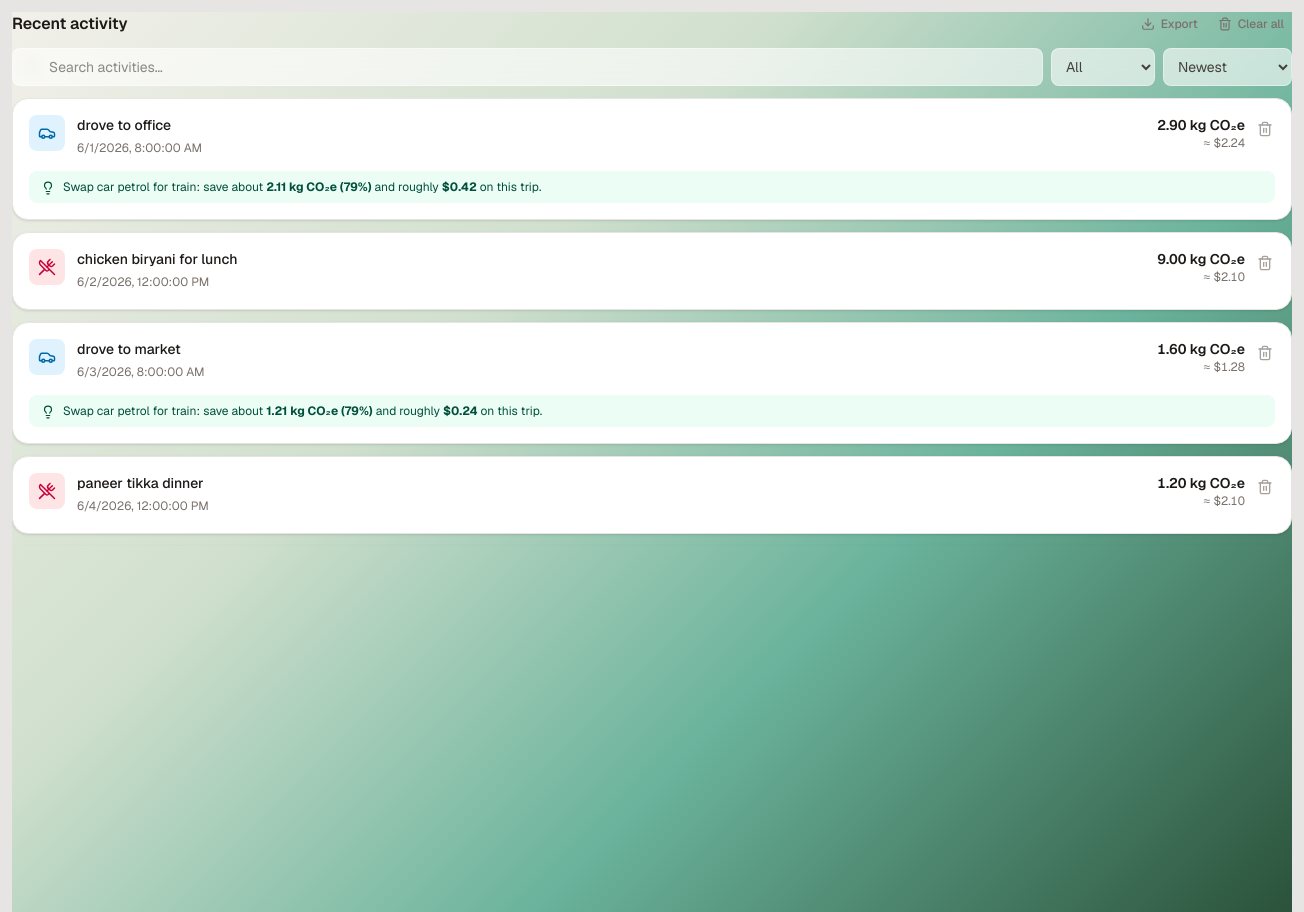
Scenario: RecentActivity › filters by search text
In the field with placeholder "Search activities…": x=528, y=67 left=12, top=48, right=1043, bottom=86, type "biryani"
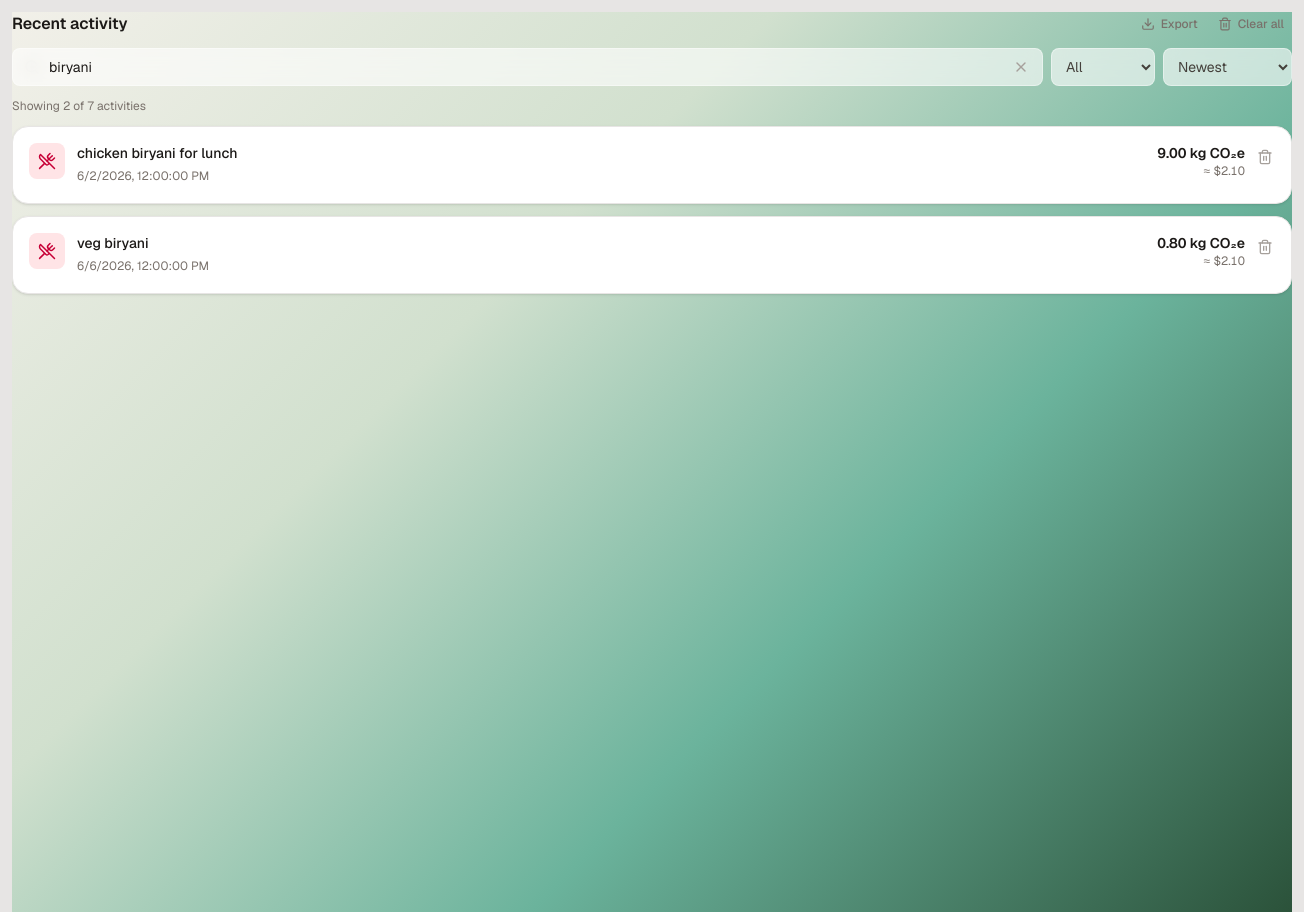
expect the text "chicken biryani for lunch" is shown: met, box left=77, top=143, right=238, bottom=163
expect the text "veg biryani" is shown: met, box left=77, top=234, right=149, bottom=252
expect the text "drove to office" is gone: met
